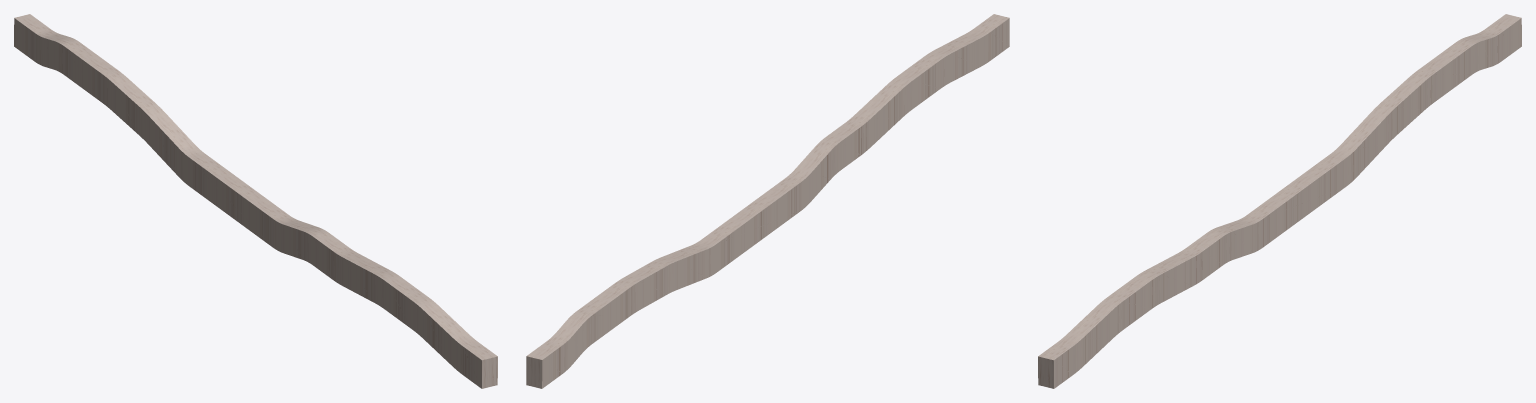
File: road3.fbx
The picture shows the model from 3 angles, left to right: view 1: azimuth 30°, elevation 25°; view 2: azimuth 150°, elevation 25°; view 3: azimuth 330°, elevation 25°; orthographic projection.
Parts seen in each view (by area): view 1: Plane.003; view 2: Plane.003; view 3: Plane.003.
Boxes of the visible parts, <box> form: Plane.003: <box>14,14,497,388</box>; Plane.003: <box>526,14,1009,388</box>; Plane.003: <box>1038,14,1521,388</box>.
Size of the model in its own units: 9.83 by 28.77 by 500.
Materials: 1 (1 with a texture image).
